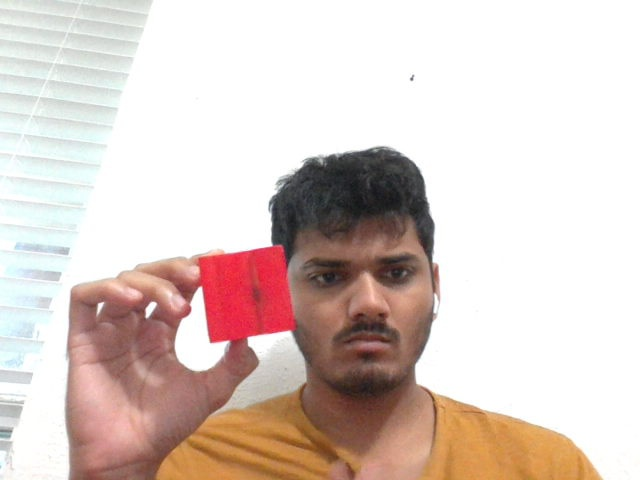RedBlock: (196, 244, 298, 344)
